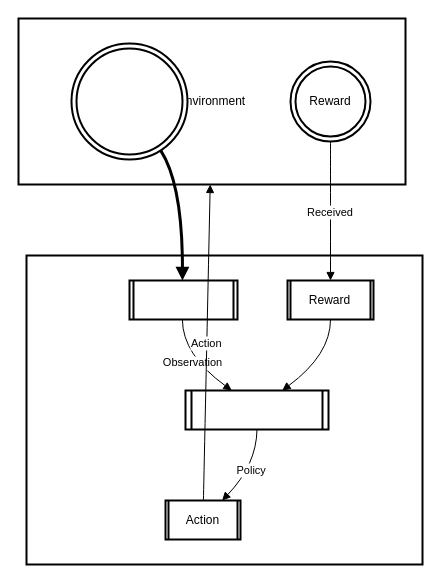
Some shapes in this 440 by 582 pixel diagram are drawn without their labels. The centre of each missing label's shape, as x and y in pixels:
"Action selection" goes at (x=256, y=409).
"Perception" goes at (x=183, y=299).
"State update" goes at (x=129, y=101).
